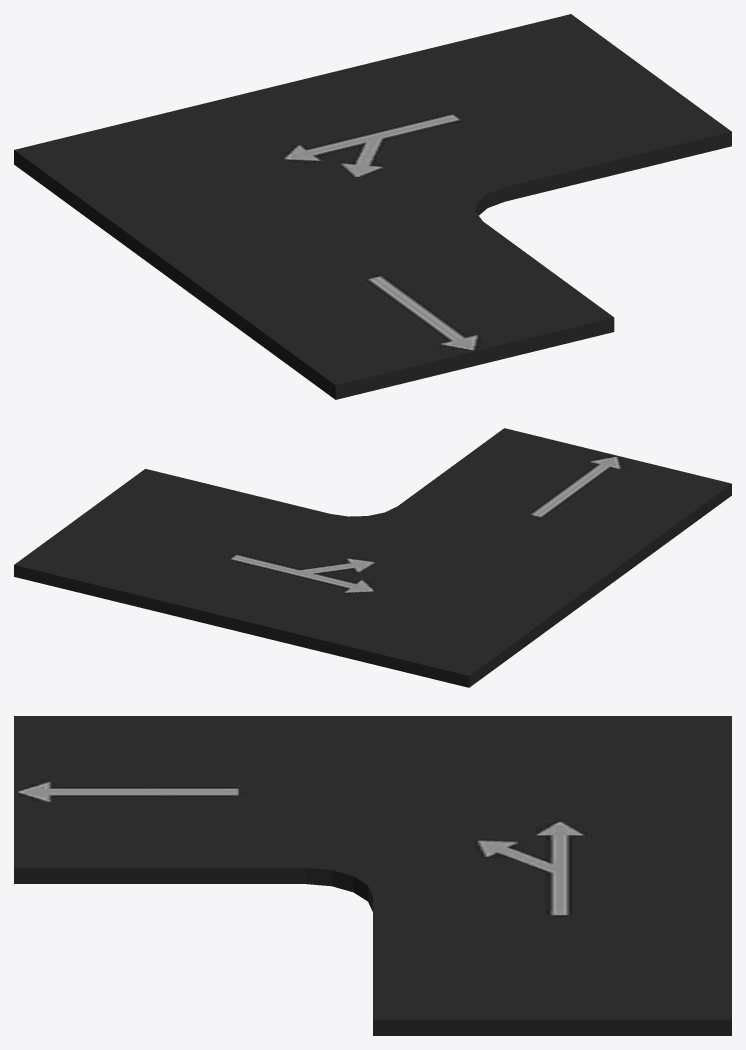
File: SM_Factory_Left_Corner_Road_01.glb
3 views of the same model, one above another, from view 1: azimuth 30°, elevation 25°; view 2: azimuth 150°, elevation 25°; view 3: azimuth 270°, elevation 25° (orthographic). The views are drawn at different scales.
Parts seen in each view (by area): view 1: SM_Factory_Left_Corner_Road_01; view 2: SM_Factory_Left_Corner_Road_01; view 3: SM_Factory_Left_Corner_Road_01.
Part boxes in pixels (box(x1,y1,x2,y2)): SM_Factory_Left_Corner_Road_01: box(14, 14, 731, 399); SM_Factory_Left_Corner_Road_01: box(14, 428, 731, 687); SM_Factory_Left_Corner_Road_01: box(14, 716, 731, 1035).
Size of the model in its own units: 10 by 0.25 by 10.
Materials: 1 (1 with a texture image).
